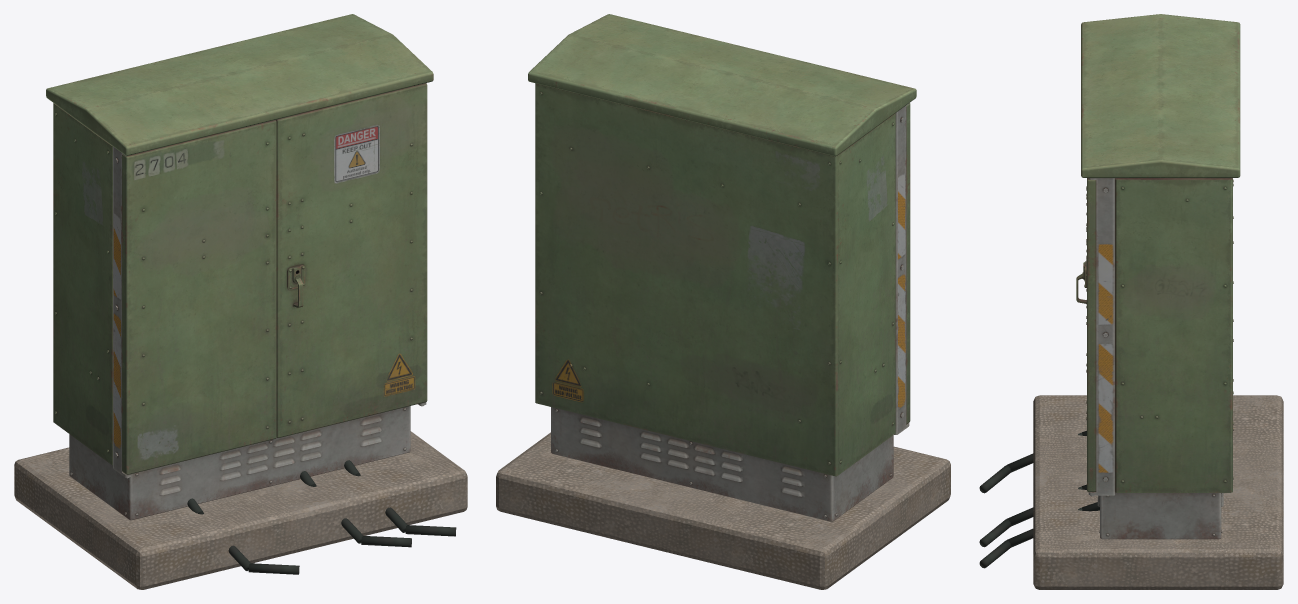
The model's file is f3_v3_electric_cabinet.glb.
3 renders of one model, left to right at view 1: azimuth 30°, elevation 25°; view 2: azimuth 150°, elevation 25°; view 3: azimuth 270°, elevation 25°, orthographic. The views are drawn at different scales.
Visible parts, largest first — view 1: utility_box_02_surface, f3_weathered_concrete_surface, f3_deep_crack_surface; view 2: utility_box_02_surface, f3_weathered_concrete_surface; view 3: utility_box_02_surface, f3_weathered_concrete_surface, f3_deep_crack_surface.
Boxes of the visible parts, left/top/right/bottom form: utility_box_02_surface: left=46, top=14, right=433, bottom=520; f3_weathered_concrete_surface: left=14, top=431, right=467, bottom=589; f3_deep_crack_surface: left=187, top=460, right=456, bottom=574; utility_box_02_surface: left=528, top=14, right=916, bottom=521; f3_weathered_concrete_surface: left=496, top=432, right=950, bottom=589; utility_box_02_surface: left=1076, top=14, right=1240, bottom=539; f3_weathered_concrete_surface: left=1033, top=395, right=1283, bottom=589; f3_deep_crack_surface: left=979, top=430, right=1099, bottom=568.
Bounding box in the file's own units: 1.5 × 1.88 × 1.22.
Materials: 3 (3 with a texture image).
